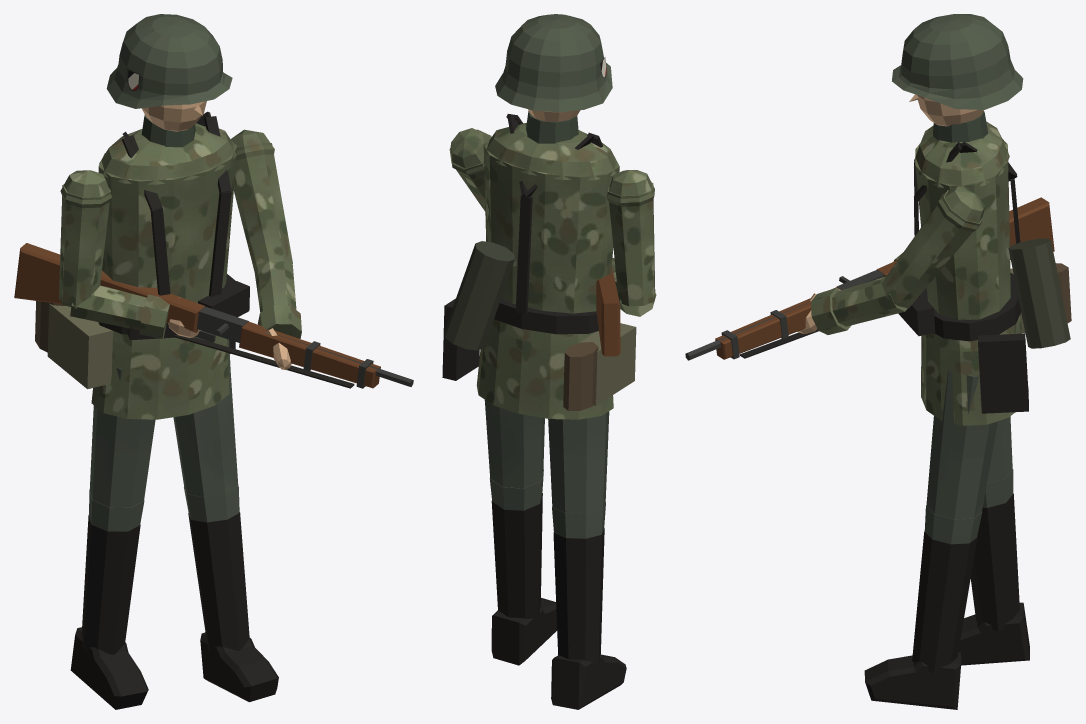
Rendered from infantry-1.glb.
3 views of the same model, side by side, from view 1: azimuth 30°, elevation 25°; view 2: azimuth 150°, elevation 25°; view 3: azimuth 270°, elevation 25° (orthographic). The views are drawn at different scales.
Parts seen in each view (by area): view 1: torse, basques, casque_bombe, botte_left, botte_right, pantalon_right, pantalon_left, manche_left, epaules, manche_right, sac_a_pain, fusil_crosse (+19 smaller); view 2: torse, casque_bombe, basques, botte_right, pantalon_right, botte_left, masque_a_gaz, epaules, manche_right, pantalon_left, chaussure_right, chaussure_left (+14 smaller); view 3: casque_bombe, torse, pantalon_left, botte_left, botte_right, basques, masque_a_gaz, manche_left, chaussure_left, pelle, epaules, chaussure_right (+12 smaller).
Part boxes in pixels (x1=…): torse: x1=98, y1=141, x2=237, y2=302; basques: x1=91, y1=331, x2=230, y2=419; casque_bombe: x1=106, y1=14, x2=232, y2=108; botte_left: x1=188, y1=512, x2=249, y2=652; botte_right: x1=81, y1=515, x2=140, y2=654; pantalon_right: x1=89, y1=367, x2=155, y2=507; pantalon_left: x1=173, y1=339, x2=238, y2=496; manche_left: x1=234, y1=143, x2=292, y2=271; epaules: x1=99, y1=123, x2=236, y2=184; manche_right: x1=59, y1=184, x2=110, y2=308; sac_a_pain: x1=47, y1=303, x2=112, y2=389; fusil_crosse: x1=14, y1=243, x2=204, y2=332; torse: x1=483, y1=141, x2=619, y2=313; casque_bombe: x1=495, y1=14, x2=612, y2=112; basques: x1=476, y1=319, x2=613, y2=419; botte_right: x1=553, y1=528, x2=604, y2=667; pantalon_right: x1=548, y1=399, x2=609, y2=513; botte_left: x1=491, y1=493, x2=542, y2=622; masque_a_gaz: x1=444, y1=241, x2=514, y2=350; epaules: x1=484, y1=123, x2=617, y2=180; manche_right: x1=608, y1=183, x2=655, y2=306; pantalon_left: x1=481, y1=349, x2=544, y2=488; chaussure_right: x1=551, y1=654, x2=626, y2=709; chaussure_left: x1=491, y1=598, x2=557, y2=665; casque_bombe: x1=892, y1=14, x2=1023, y2=109; torse: x1=915, y1=139, x2=1010, y2=320; pantalon_left: x1=926, y1=370, x2=997, y2=519; botte_left: x1=912, y1=531, x2=977, y2=673; botte_right: x1=970, y1=493, x2=1019, y2=630; basques: x1=921, y1=315, x2=1028, y2=425; masque_a_gaz: x1=1008, y1=238, x2=1070, y2=348; manche_left: x1=882, y1=190, x2=983, y2=308; chaussure_left: x1=864, y1=652, x2=961, y2=709; pelle: x1=978, y1=333, x2=1028, y2=413; epaules: x1=914, y1=121, x2=1009, y2=187; chaussure_right: x1=958, y1=602, x2=1029, y2=665.
Bounding box in the file's own units: 0.6382 × 1.85 × 0.9787.
Materials: 14 (3 with a texture image).
